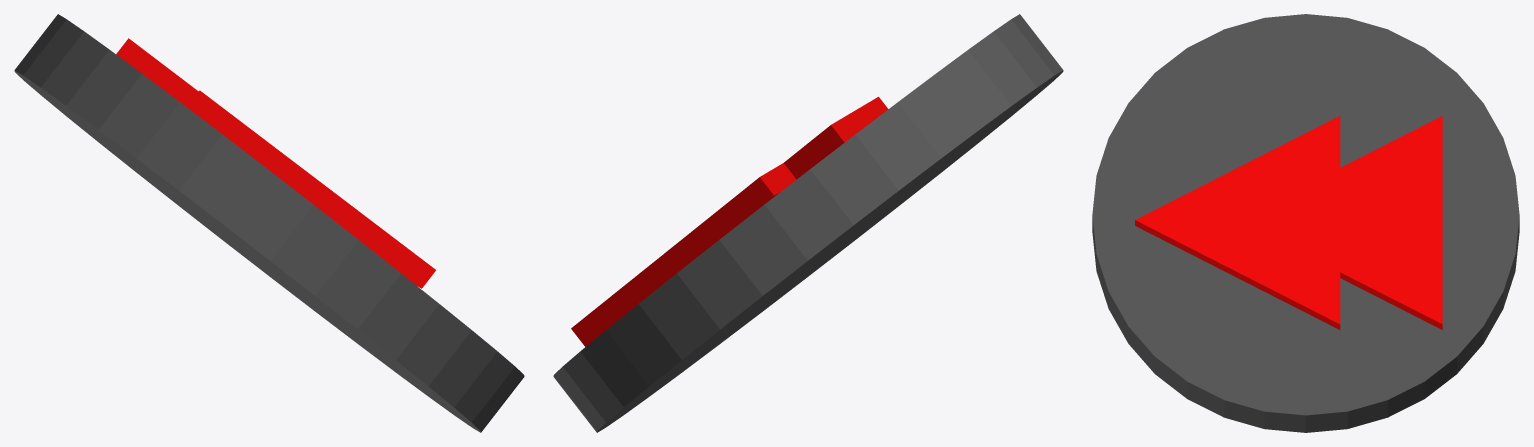
Rendered from large-back-button.glb.
3 renders of one model, left to right at view 1: azimuth 30°, elevation 25°; view 2: azimuth 150°, elevation 25°; view 3: azimuth 270°, elevation 25°, orthographic. The views are drawn at different scales.
Parts seen in each view (by area): view 1: large-back-button; view 2: large-back-button; view 3: large-back-button.
Part boxes in pixels (bbox=[...]): large-back-button: bbox=[14, 14, 524, 432]; large-back-button: bbox=[553, 14, 1063, 432]; large-back-button: bbox=[1092, 14, 1519, 432].
Bounding box in the file's own units: 0.099 × 0.099 × 0.125.
